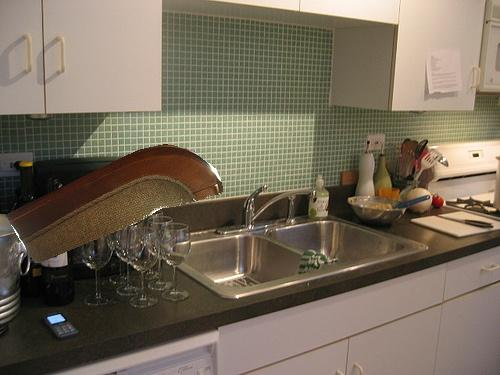tampered: (7, 145, 223, 263)
